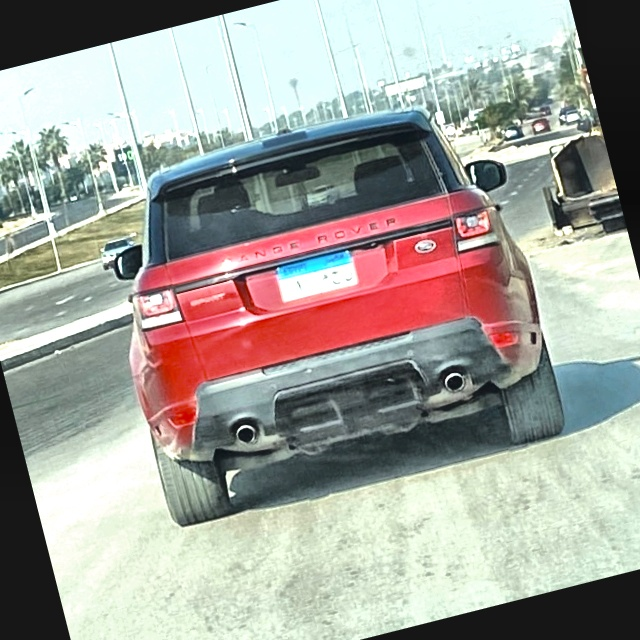License Plate: (270, 244, 363, 306)
